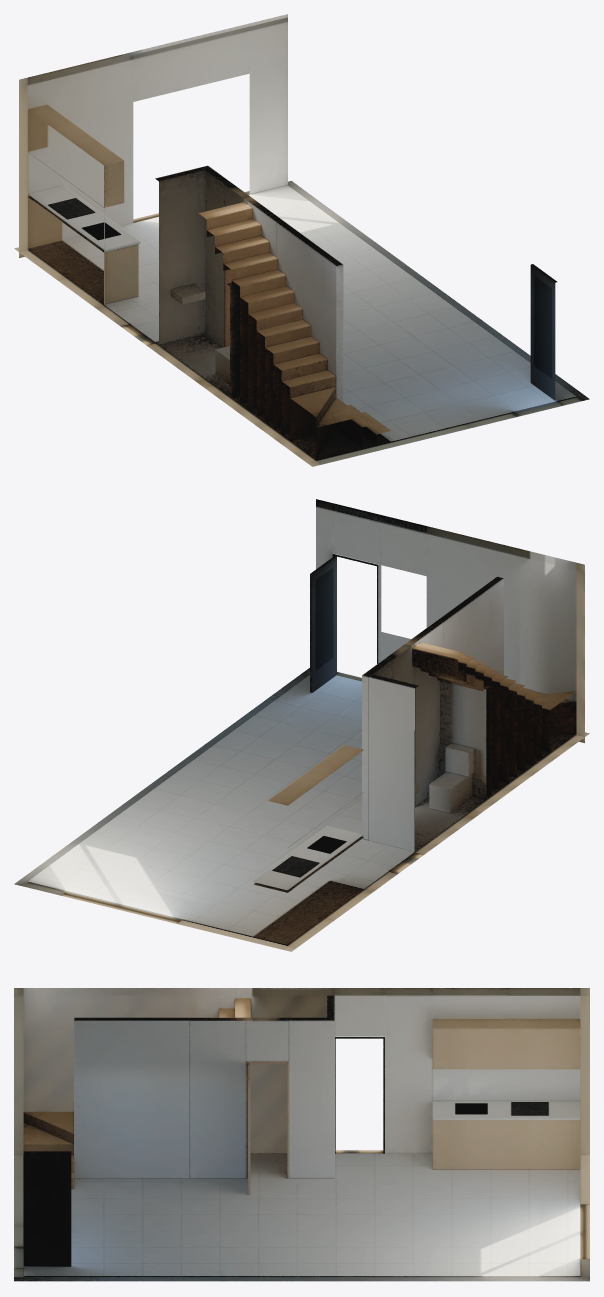
The model's file is interior_pb.glb.
The picture shows the model from 3 angles, top to bottom: view 1: azimuth 30°, elevation 25°; view 2: azimuth 150°, elevation 25°; view 3: azimuth 270°, elevation 25°; orthographic projection. The views are drawn at different scales.
Parts seen in each view (by area): view 1: B_Interior_PB; view 2: B_Interior_PB; view 3: B_Interior_PB.
Boxes of the visible parts, x1,y1,x2,y2 form: B_Interior_PB: (14, 14, 589, 466); B_Interior_PB: (14, 499, 589, 951); B_Interior_PB: (14, 988, 589, 1281).
Size of the model in its own units: 4.8 by 2.95 by 8.94.
1 material, 1 textured.
